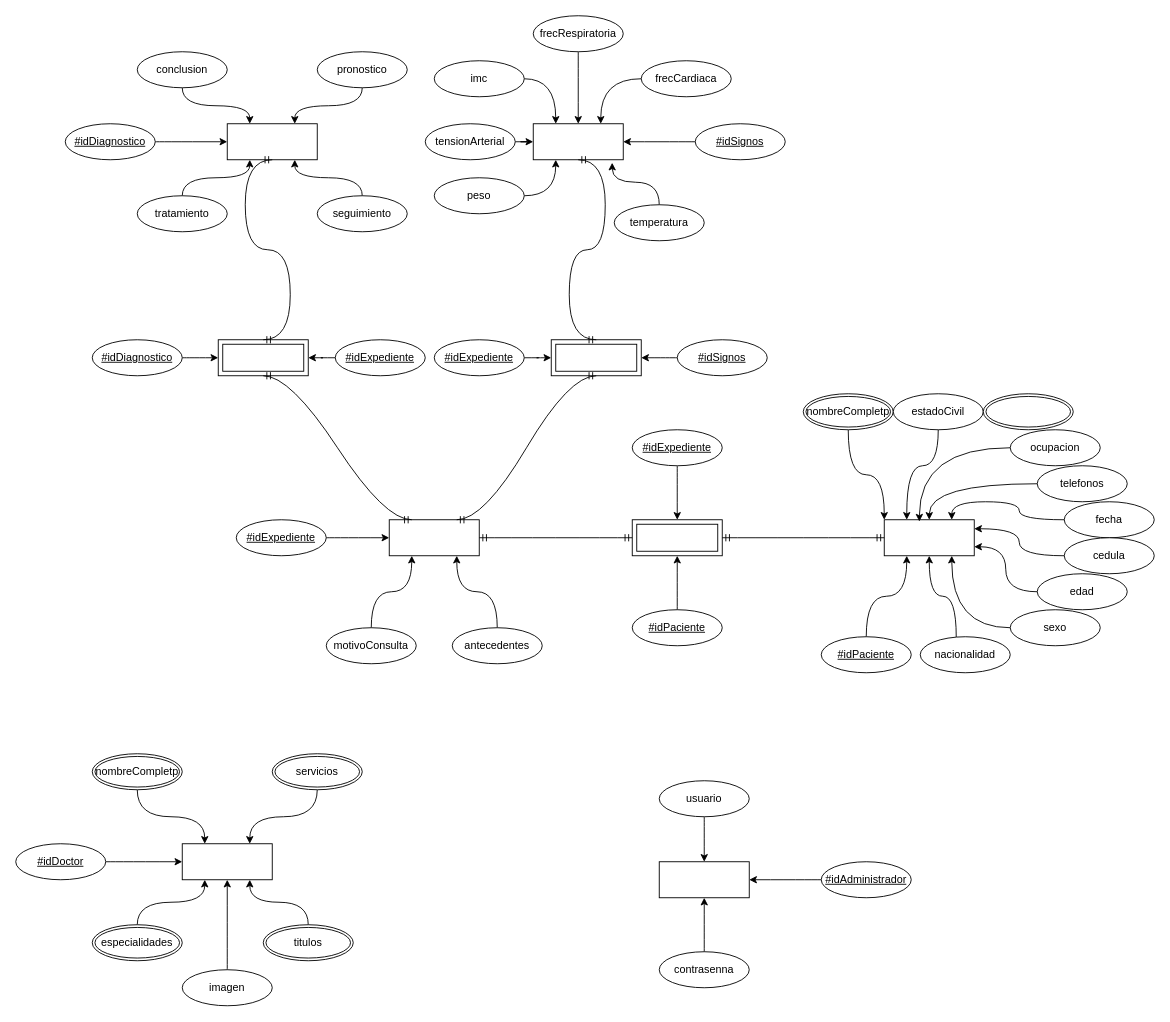
Some shapes in this 1170 by 1022 pixel diagram are drawn without their labels. The shapes that lost their labels are listed below. From the top down, each one's box as (x1, y1, x2, y2) in pixels, then its label:
(226, 123, 317, 160): Diagnostico
(532, 123, 623, 160): SignosVitales
(217, 339, 308, 376): Expediente - Diagnostico
(550, 339, 641, 376): Expediente - SignosVitales
(982, 393, 1073, 430): direccion
(388, 519, 479, 556): Expediente
(631, 519, 722, 556): Paciente - Expediente
(883, 519, 974, 556): Paciente
(181, 843, 272, 880): Doctor
(658, 861, 749, 898): Administrador
